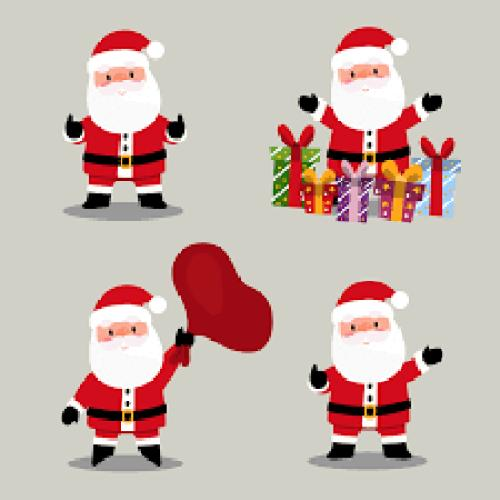Santa: (50, 12, 206, 229), (300, 274, 449, 470), (52, 278, 192, 479), (293, 23, 447, 185)
